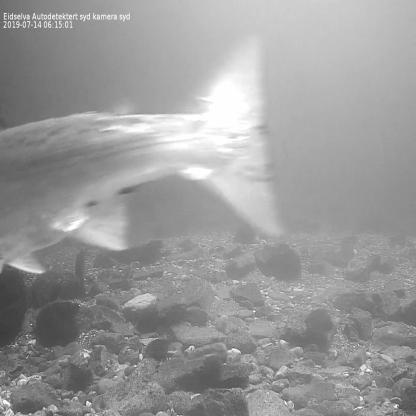salmon: (0, 29, 289, 278)
